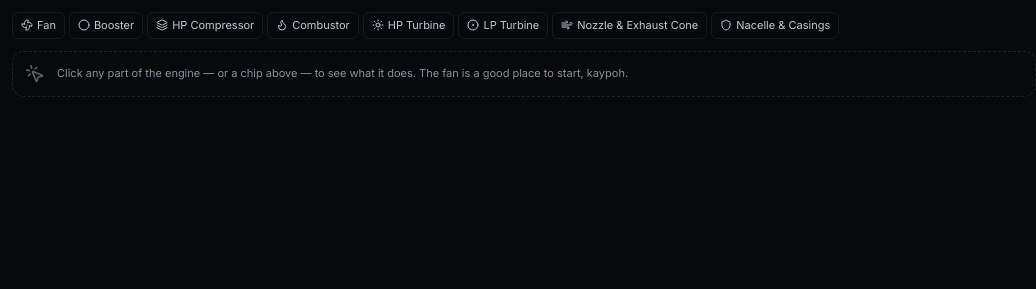
Scenario: TurbofanPartInspector › shows an explainer card for a chip and clears it again
Expected: the text "Click any part" is shown, x1=57 y1=66 x2=628 y2=80
Click the button "Fan" at (38, 25), box x1=12 y1=12 x2=65 y2=38
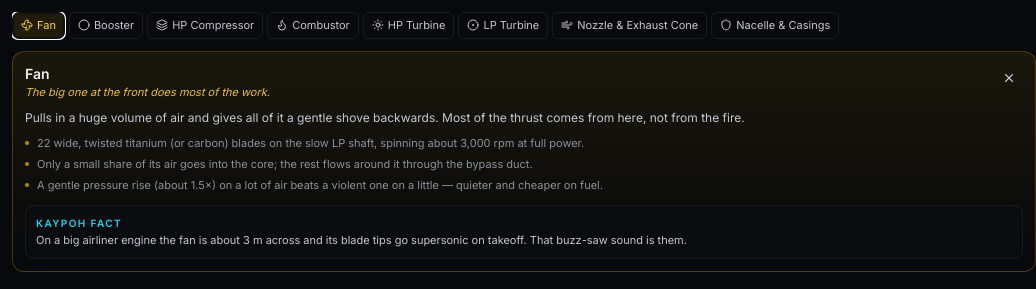
Expected: the text "The big one at the front does most of the work." is shown, x1=25 y1=84 x2=270 y2=100
Expected: the text "On a big airliner engine the fan is about 3 m across and its blade tips go supersonic on takeoff. That buzz-saw sound is" is shown, x1=36 y1=233 x2=687 y2=247
Click the button named "clear selection" at (1009, 78), box x1=995 y1=64 x2=1023 y2=92
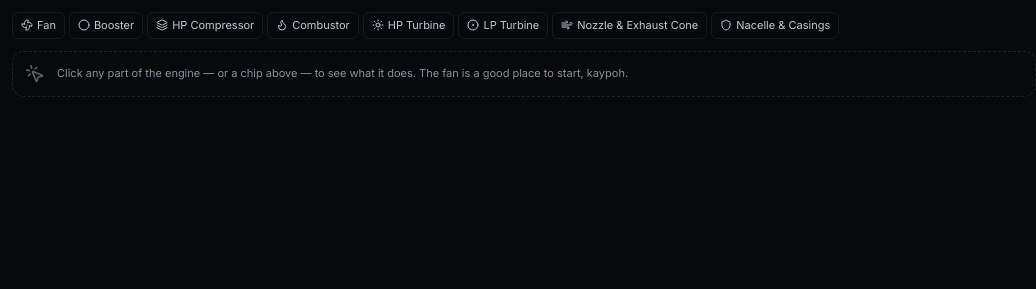
Expected: the text "Click any part" is shown, x1=57 y1=66 x2=628 y2=80
